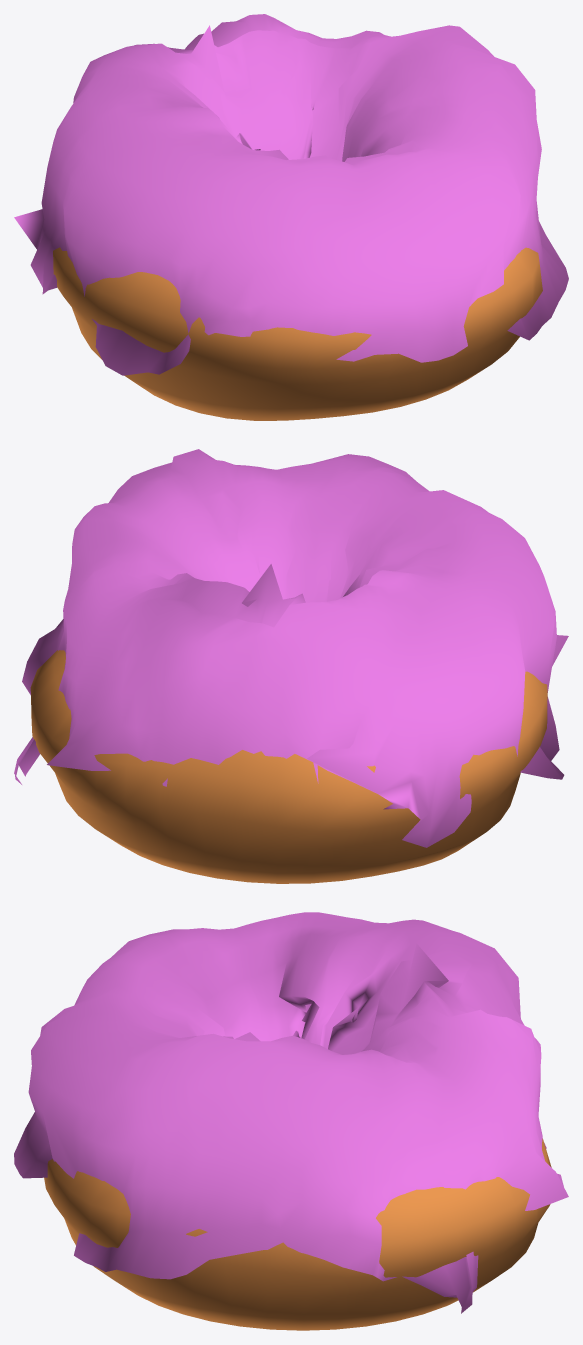
The model's file is donut.glb.
3 views of the same model, one above another, from view 1: azimuth 30°, elevation 25°; view 2: azimuth 150°, elevation 25°; view 3: azimuth 270°, elevation 25° (orthographic). The views are drawn at different scales.
Visible parts, largest first — view 1: Icing, Donut; view 2: Icing, Donut; view 3: Icing, Donut.
Part boxes in pixels (x1,y1,x2,y2): Icing: (14,14,568,375); Donut: (53,247,542,420); Icing: (14,449,568,847); Donut: (30,650,547,883); Icing: (14,912,568,1313); Donut: (44,1138,551,1330).
Size of what is drawn, in the model's own units: 0.103 by 0.0644 by 0.1051.
